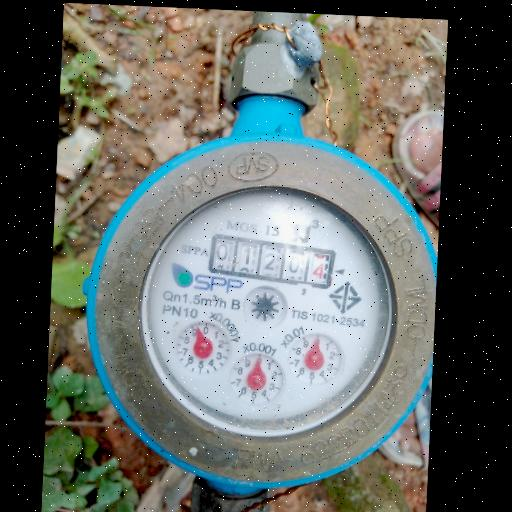0: (212, 238, 232, 270), (285, 249, 305, 281)
1: (238, 243, 258, 274)
2: (261, 246, 281, 277)
4: (309, 253, 328, 285)
border_water_meter_number: (206, 233, 338, 290)
